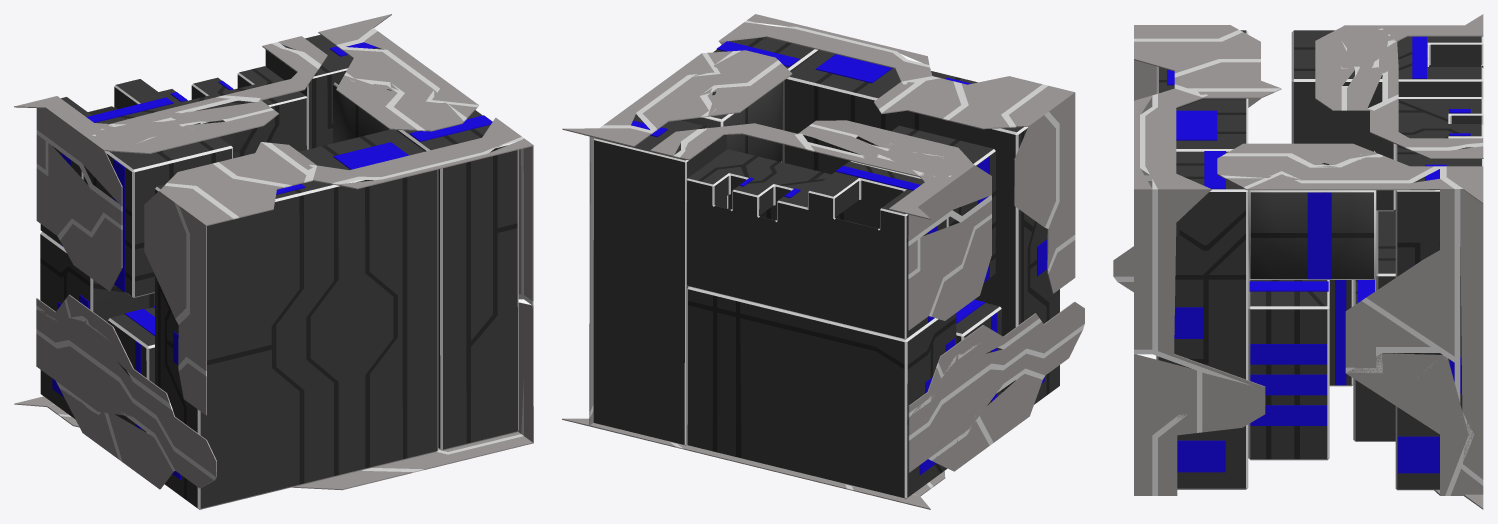
File: House1.glb
3 renders of one model, left to right at view 1: azimuth 30°, elevation 25°; view 2: azimuth 150°, elevation 25°; view 3: azimuth 270°, elevation 25°, orthographic. The views are drawn at different scales.
Visible parts, largest first — view 1: Layer1.002, Layer3.002, Layer2.002; view 2: Layer1.002, Layer3.002, Layer2.002; view 3: Layer3.002, Layer1.002, Layer2.002.
Part boxes in pixels (x1=…): Layer1.002: x1=40, y1=34, x2=518, y2=509; Layer3.002: x1=14, y1=14, x2=533, y2=490; Layer2.002: x1=52, y1=42, x2=492, y2=479; Layer1.002: x1=593, y1=37, x2=1059, y2=499; Layer3.002: x1=562, y1=14, x2=1084, y2=509; Layer2.002: x1=631, y1=41, x2=1047, y2=474; Layer3.002: x1=1113, y1=14, x2=1483, y2=509; Layer1.002: x1=1156, y1=30, x2=1483, y2=490; Layer2.002: x1=1167, y1=36, x2=1470, y2=473.
Size of the model in its own units: 40.54 by 30.59 by 33.42.
